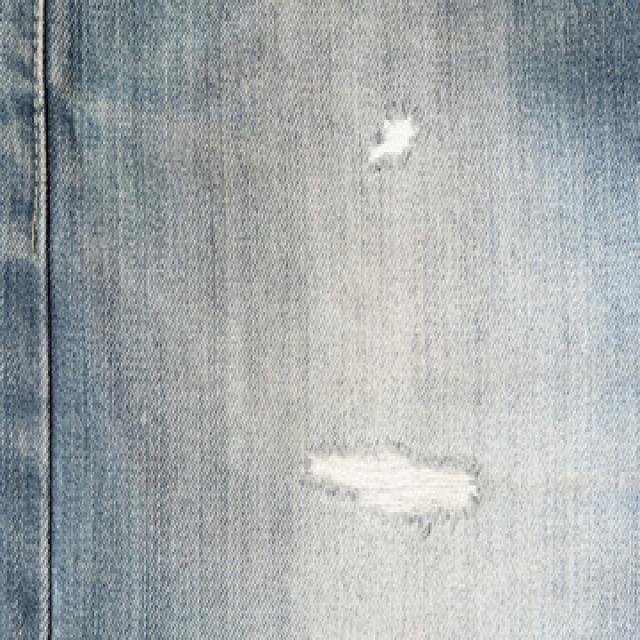Hole: (309, 450, 479, 516), (369, 113, 420, 168)
Line: (31, 0, 51, 640)
